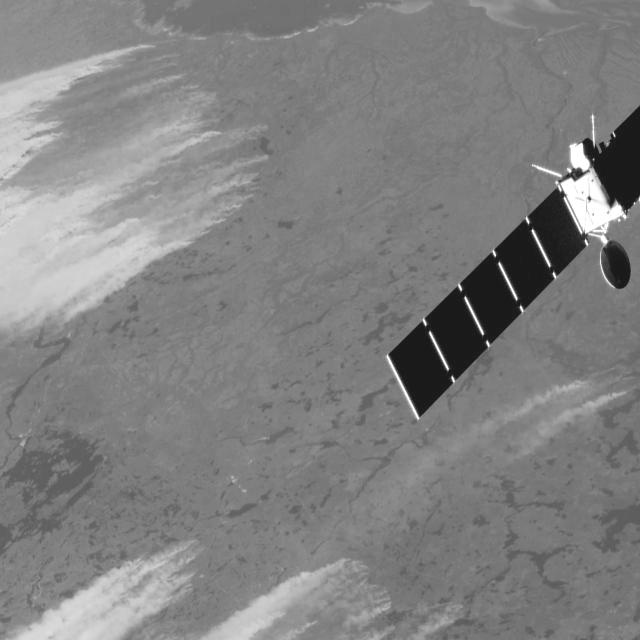satellite: (378, 99, 640, 429)
